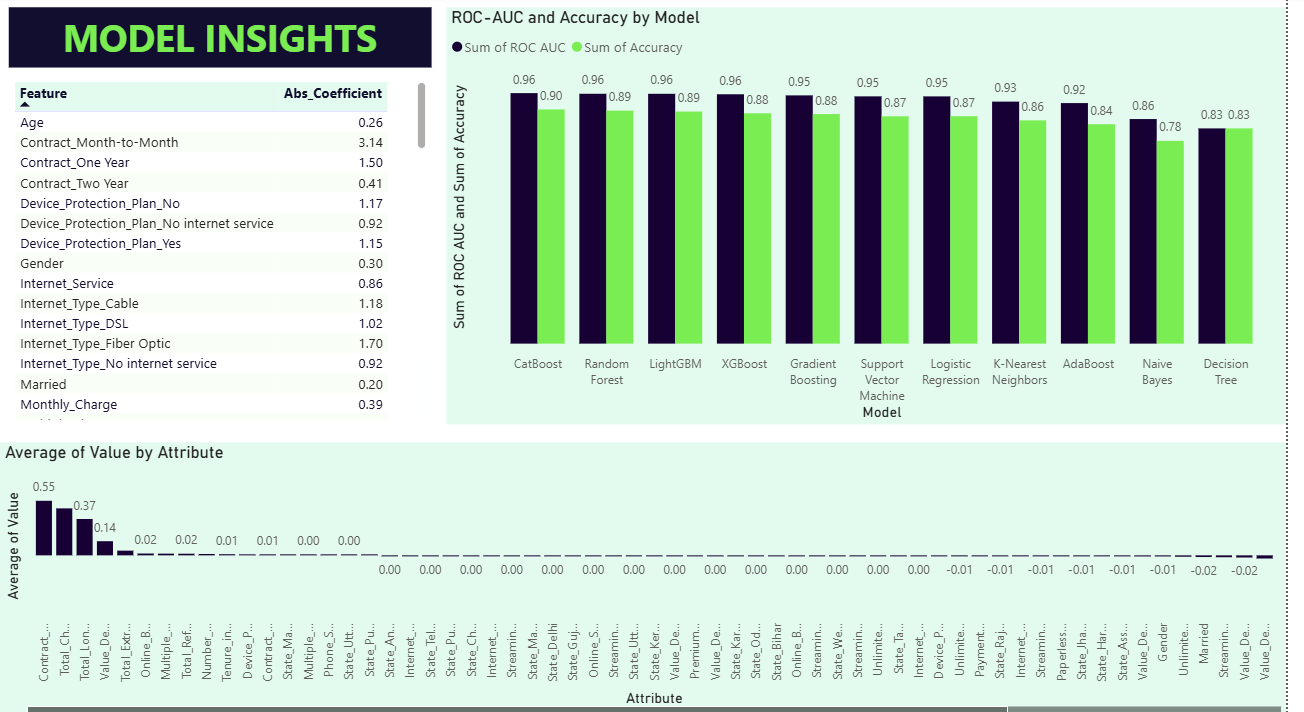

This screenshot's page, from the dashboard's own definition file:
{"tool":"powerbi","page":{"name":"Model Insights","canvas":[1280,720],"ordinal":2},"visuals":[{"type":"textbox","box":[8.7,11.2,420.5,59.7],"z":0},{"type":"clusteredColumnChart","title":"ROC-AUC and Accuracy by Model","fields":{"Category":["model_comparison_metrics (1).Model"],"Y":["Sum(model_comparison_metrics (1).ROC AUC)","Sum(model_comparison_metrics (1).Accuracy)"]},"box":[444.1,11.2,835.9,415.5],"z":1},{"type":"tableEx","fields":{"Values":["logreg_feature_weights (1).Feature","logreg_feature_weights (1).Abs_Coefficient"]},"box":[8.7,80.9,420.5,345.8],"z":2},{"type":"clusteredColumnChart","title":"Shap Values by Features","fields":{"Category":["shap_catboost (1).Attribute"],"Y":["Avg(shap_catboost (1).Value)"]},"box":[0,444.1,1280,276.2],"z":3}]}

Visuals, with their boxes on the page's 1280x720 design canvas (x1, y1, x2, y2). These are canvas units, not pixel positions in the 1304x712 screenshot, which may show the page scaled, cropped or inside an application window:
textbox: 9/11/429/71
"ROC-AUC and Accuracy by Model" clusteredColumnChart: 444/11/1280/427
tableEx - logreg_feature_weights (1).Feature x logreg_feature_weights (1).Abs_Coefficient: 9/81/429/427
"Shap Values by Features" clusteredColumnChart: 0/444/1280/720
